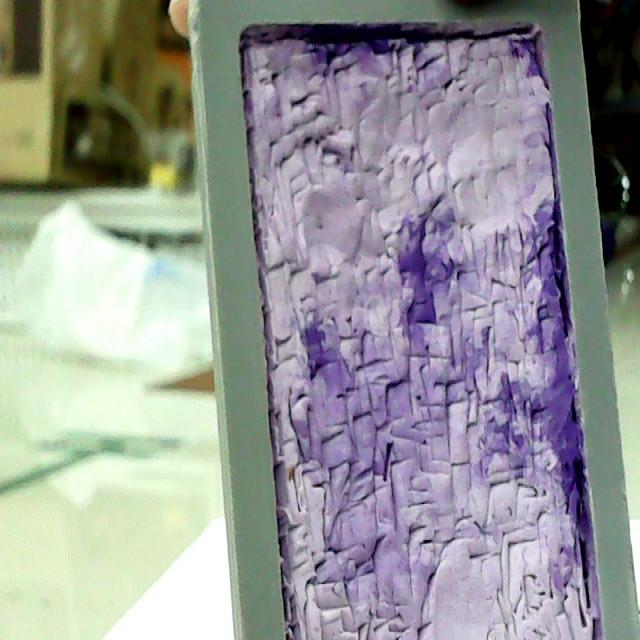block: (186, 1, 640, 640)
